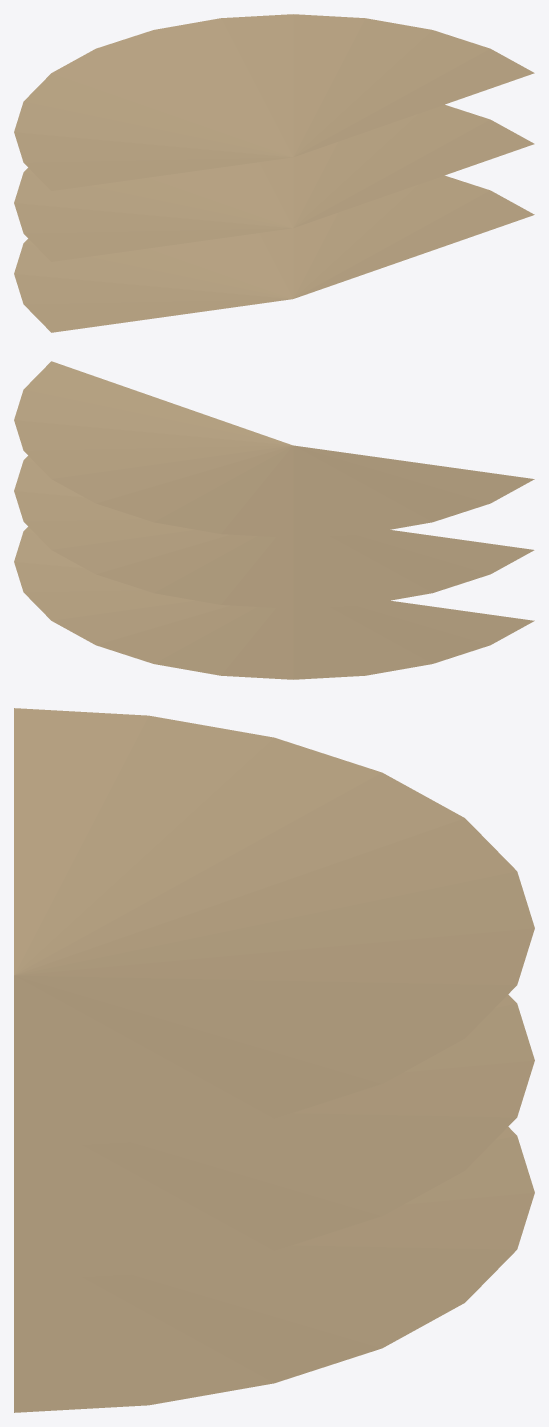
File: shelf_fungus_lod0.glb
3 renders of one model, top to bottom at view 1: azimuth 30°, elevation 25°; view 2: azimuth 150°, elevation 25°; view 3: azimuth 270°, elevation 25°, orthographic. The views are drawn at different scales.
Parts seen in each view (by area): view 1: Leaves; view 2: Leaves; view 3: Leaves.
Boxes of the visible parts, x1,y1,x2,y2 form: Leaves: (14,14,534,332); Leaves: (14,361,534,679); Leaves: (14,708,534,1412).
Bounding box in the file's own units: 1 × 0.33 × 0.5.
